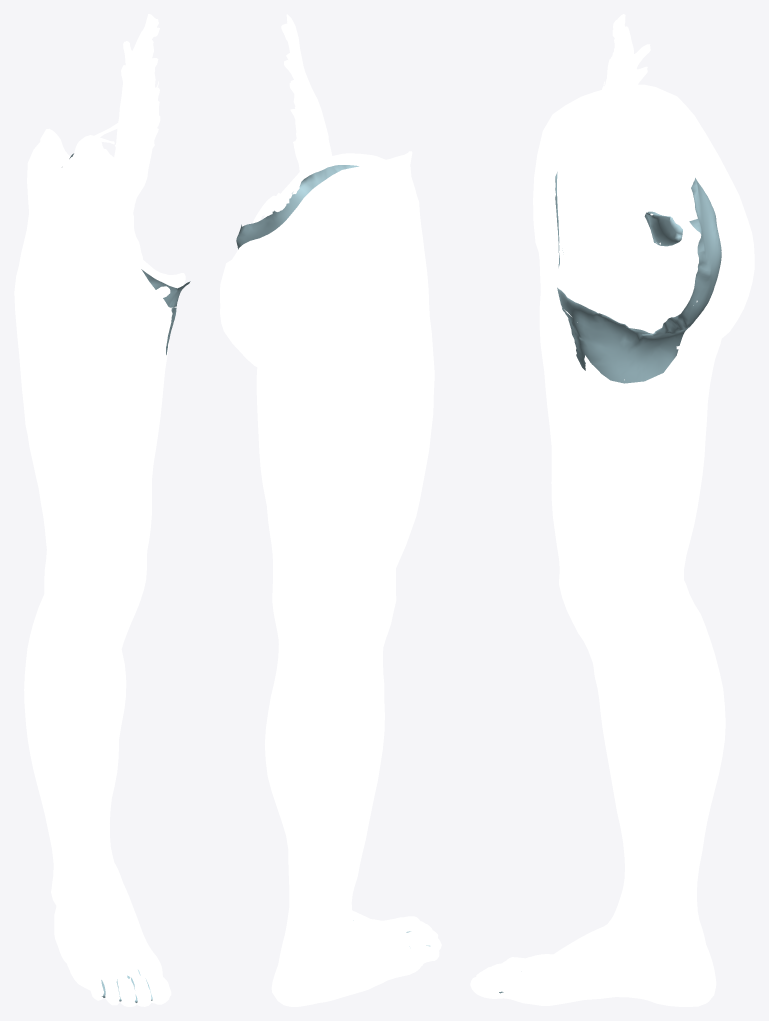
The model's file is right-lower-limb.glb.
The picture shows the model from 3 angles, left to right: view 1: azimuth 30°, elevation 25°; view 2: azimuth 150°, elevation 25°; view 3: azimuth 270°, elevation 25°; orthographic projection. The views are drawn at different scales.
Parts seen in each view (by area): view 1: Anterior region of thigh.r, Anterior region of leg.r, Anterior region of knee.r, Psoas major.r, Metatarsal region.r, Hip region.r, Dorsal surfaces of digits of foot.r, Anterior region of ankle.r, Femoral triangle.r, Posterior region of leg.r, Dorsum of foot.r, Gluteal region.r (+7 smaller); view 2: Posterior region of thigh.r, Gluteal region.r, Posterior region of leg.r, Posterior region of knee.r, Anterior region of thigh.r, Hip region.r, Psoas major.r, Heel region.r, Popliteal fossa.r, Lateral retromalleolar region.r, Lateral border of foot.r, Fascia lata.r (+8 smaller); view 3: Anterior region of thigh.r, Posterior region of thigh.r, Posterior region of leg.r, Anterior region of leg.r, Fascia lata.r, Gluteal region.r, Hip bone.r, Psoas major.r, Anterior region of knee.r, Posterior region of knee.r, Medial border of foot.r, Obturator internus.r (+14 smaller).
Part boxes in pixels (left/top/right/bottom): Anterior region of thigh.r: left=26, top=138, right=176, bottom=580; Anterior region of leg.r: left=35, top=643, right=126, bottom=858; Anterior region of knee.r: left=45, top=552, right=147, bottom=666; Psoas major.r: left=108, top=14, right=160, bottom=268; Metatarsal region.r: left=69, top=913, right=157, bottom=970; Hip region.r: left=14, top=241, right=58, bottom=338; Dorsal surfaces of digits of foot.r: left=80, top=957, right=171, bottom=999; Anterior region of ankle.r: left=52, top=847, right=123, bottom=907; Femoral triangle.r: left=126, top=241, right=170, bottom=372; Posterior region of leg.r: left=24, top=626, right=57, bottom=853; Dorsum of foot.r: left=60, top=884, right=137, bottom=936; Gluteal region.r: left=14, top=128, right=70, bottom=288; Posterior region of thigh.r: left=256, top=342, right=420, bottom=589; Gluteal region.r: left=220, top=165, right=400, bottom=382; Posterior region of leg.r: left=265, top=670, right=378, bottom=912; Posterior region of knee.r: left=272, top=569, right=385, bottom=685; Anterior region of thigh.r: left=367, top=151, right=434, bottom=580; Hip region.r: left=370, top=250, right=428, bottom=348; Psoas major.r: left=281, top=14, right=332, bottom=171; Heel region.r: left=271, top=948, right=337, bottom=1006; Popliteal fossa.r: left=277, top=583, right=347, bottom=623; Lateral retromalleolar region.r: left=286, top=911, right=342, bottom=972; Lateral border of foot.r: left=331, top=958, right=422, bottom=997; Fascia lata.r: left=236, top=165, right=358, bottom=249; Anterior region of thigh.r: left=534, top=84, right=655, bottom=582; Posterior region of thigh.r: left=624, top=300, right=721, bottom=582; Posterior region of leg.r: left=651, top=640, right=725, bottom=908; Anterior region of leg.r: left=593, top=664, right=662, bottom=907; Fascia lata.r: left=555, top=172, right=721, bottom=383; Gluteal region.r: left=648, top=87, right=754, bottom=351; Hip bone.r: left=557, top=105, right=689, bottom=319; Psoas major.r: left=575, top=14, right=650, bottom=255; Anterior region of knee.r: left=559, top=559, right=650, bottom=677; Posterior region of knee.r: left=631, top=570, right=710, bottom=676; Medial border of foot.r: left=546, top=947, right=671, bottom=1003; Obturator internus.r: left=588, top=242, right=667, bottom=303.
Size of the model in its own units: 0.1818 by 1.16 by 0.294.
